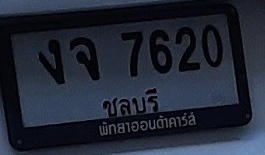txt05: (37, 37, 66, 87)
txt06: (68, 35, 101, 84)
